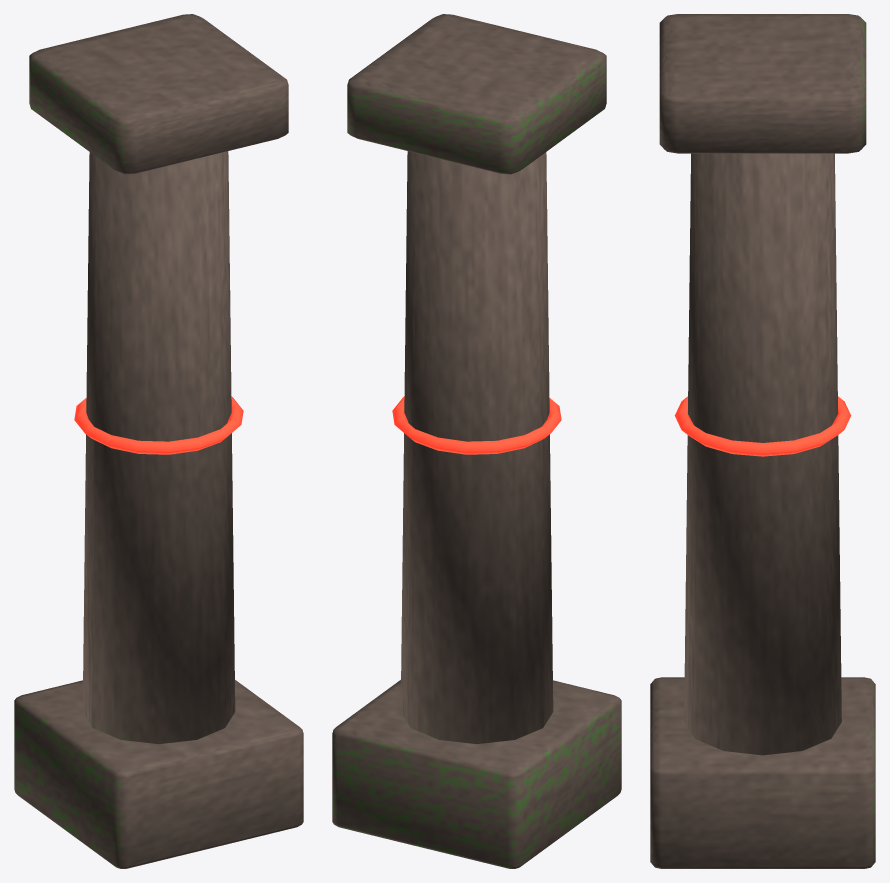
File: prop_candi_pilar.glb
The picture shows the model from 3 angles, left to right: view 1: azimuth 30°, elevation 25°; view 2: azimuth 150°, elevation 25°; view 3: azimuth 270°, elevation 25°; orthographic projection. The views are drawn at different scales.
Visible parts, largest first — view 1: candi_pilar; view 2: candi_pilar; view 3: candi_pilar.
Boxes of the visible parts, x1,y1,x2,y2 form: candi_pilar: (14, 14, 303, 868); candi_pilar: (332, 14, 621, 868); candi_pilar: (650, 14, 875, 868).
Bounding box in the file's own units: 1.2 × 4.53 × 1.2.
Materials: 2 (1 with a texture image).
